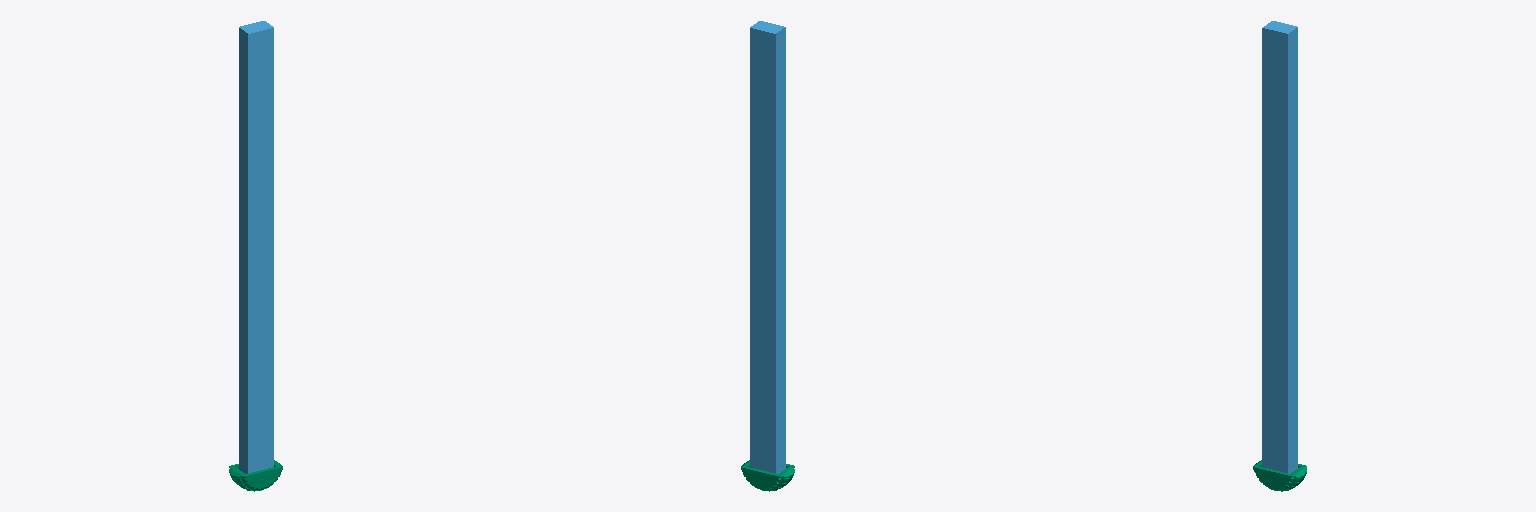
The robot description file, URDF, robot "physics":
<?xml version="1.0"?>

<robot name="physics">

    <link name="ground"/>
      

    <link name="leg">
      <inertial>
        <mass value="0"/>
        <inertia ixx="0.0" ixy="0.0" ixz="0.0" iyy="0.0" iyz="0.0" izz="0.0"/>
      </inertial>
        <visual>
            <geometry>
                <box size="0.03 0.02 0.5"/>
            </geometry>
            <origin xyz="0 0 -0.25"/>
        </visual>
        
    </link>

    <joint name="ground_leg_joint" type="continuous">
        <parent link="ground"/>
        <child link="leg"/>
        <origin xyz="0 0 0.7"/>
        <axis xyz="0 1 0"/>
    </joint>

    <link name="spot_foot">

      <contact>
        <lateral_friction value="1.0"/>
        <rolling_friction value="0.0"/>
        <contact_cfm value="0.0"/>
        <contact_erp value="1.0"/>
      </contact>

      <visual>
        <origin xyz="0 0 -0.25"/> 
        <geometry>
          <mesh filename="spot_foot_centered.stl" scale="1.5 1.5 1.5"/>
        </geometry>
        <material name="orange"/>
      </visual>
      <collision>
         <origin xyz="0 0 -0.25"/>
        <geometry>
          <mesh filename="spot_foot_centered.stl" scale="1.5 1.5 1.5"/>
        </geometry>
        <contact_coefficients mu="10.1"/>
      </collision>
      <inertial>
        <mass value="0.005"/>
        <origin xyz="0 0 -0.25"/>
        <!-- Inertial Axes -->
        <inertia ixx="3.52083333333e-06" ixy="0" ixz="0" iyx="0" iyy="2.80208333333e-06" iyz="0" izx="0" izy="0" izz="2.80208333333e-06"/>
      </inertial>
  </link>
  
    <joint name="leg_foot_joint" type="fixed">
        <parent link="leg"/>
        <child link="spot_foot"/>
        <origin xyz="0 0 -0.25"/>
    </joint>



</robot>

--- Render facts (derived) ---
Views: 3 orthographic renders of the robot side by side, from view 1: azimuth 30°, elevation 25°; view 2: azimuth 150°, elevation 25°; view 3: azimuth 330°, elevation 25°.
Robot: physics — 3 links, 2 joints (1 continuous, 1 fixed); root link ground; default pose: every joint at zero.
Links seen in each view (by area): view 1: leg, spot_foot; view 2: leg, spot_foot; view 3: leg, spot_foot.
Boxes of the visible links, <box> form: leg: <box>239,21,273,473</box>; spot_foot: <box>229,460,282,491</box>; leg: <box>750,21,785,473</box>; spot_foot: <box>741,460,794,491</box>; leg: <box>1262,21,1297,473</box>; spot_foot: <box>1253,460,1306,491</box>.
Bounding box of the posed robot: 0.0554 × 0.0303 × 0.5111 m (x, y, z).
1 mesh visuals loaded from 1 distinct referenced files (1 binary STL).